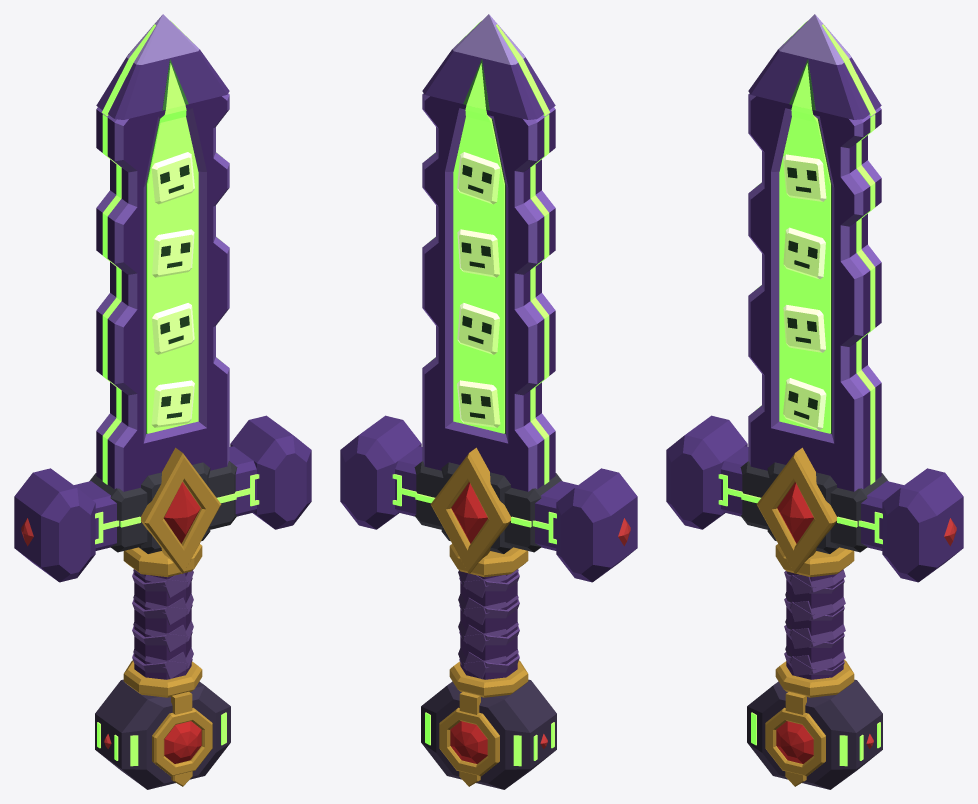
The model's file is broodsplit_blade.glb.
3 renders of one model, left to right at view 1: azimuth 30°, elevation 25°; view 2: azimuth 150°, elevation 25°; view 3: azimuth 330°, elevation 25°, orthographic.
Parts seen in each view (by area): view 1: blade_frame, blade_slime_core, guard_end_block_l, pommel_body, guard_end_block_r, tip_lower, housing_diamond_frame_front, grip, housing_wings, grip_core, guard_bar, blade_edge_seam_l (+13 smaller); view 2: blade_frame, blade_slime_core, guard_end_block_l, pommel_body, guard_end_block_r, tip_lower, housing_diamond_frame_back, grip, housing_wings, grip_core, guard_bar, blade_edge_seam_l (+13 smaller); view 3: blade_frame, blade_slime_core, guard_end_block_r, pommel_body, guard_end_block_l, tip_lower, housing_diamond_frame_front, grip, housing_wings, grip_core, guard_bar, blade_edge_seam_r (+13 smaller).
Part boxes in pixels (left/top/right/bottom): blade_frame: left=96, top=93, right=229, bottom=491; blade_slime_core: left=147, top=117, right=198, bottom=433; guard_end_block_l: left=14, top=468, right=95, bottom=582; pommel_body: left=95, top=679, right=230, bottom=789; guard_end_block_r: left=230, top=415, right=311, bottom=529; tip_lower: left=96, top=49, right=229, bottom=119; housing_diamond_frame_front: left=141, top=447, right=221, bottom=573; grip: left=132, top=569, right=193, bottom=679; housing_wings: left=89, top=461, right=237, bottom=552; grip_core: left=134, top=572, right=191, bottom=679; guard_bar: left=74, top=446, right=256, bottom=550; blade_edge_seam_l: left=102, top=114, right=121, bottom=484; blade_frame: left=422, top=93, right=555, bottom=491; blade_slime_core: left=453, top=117, right=504, bottom=433; guard_end_block_l: left=556, top=468, right=637, bottom=582; pommel_body: left=421, top=679, right=556, bottom=789; guard_end_block_r: left=340, top=415, right=421, bottom=529; tip_lower: left=422, top=49, right=555, bottom=119; housing_diamond_frame_back: left=430, top=447, right=510, bottom=573; grip: left=458, top=569, right=519, bottom=679; housing_wings: left=414, top=461, right=562, bottom=552; grip_core: left=460, top=572, right=517, bottom=679; guard_bar: left=395, top=446, right=577, bottom=550; blade_edge_seam_l: left=530, top=114, right=549, bottom=484; blade_frame: left=748, top=93, right=881, bottom=491; blade_slime_core: left=779, top=117, right=830, bottom=433; guard_end_block_r: left=882, top=468, right=963, bottom=582; pommel_body: left=747, top=679, right=882, bottom=789; guard_end_block_l: left=666, top=415, right=747, bottom=529; tip_lower: left=748, top=49, right=881, bottom=119; housing_diamond_frame_front: left=756, top=447, right=836, bottom=573; grip: left=784, top=570, right=845, bottom=675; housing_wings: left=740, top=461, right=888, bottom=552; grip_core: left=786, top=569, right=843, bottom=679; guard_bar: left=721, top=446, right=903, bottom=550; blade_edge_seam_r: left=856, top=114, right=875, bottom=484.
Size of the model in its own units: 0.486 by 1.26 by 0.15.
